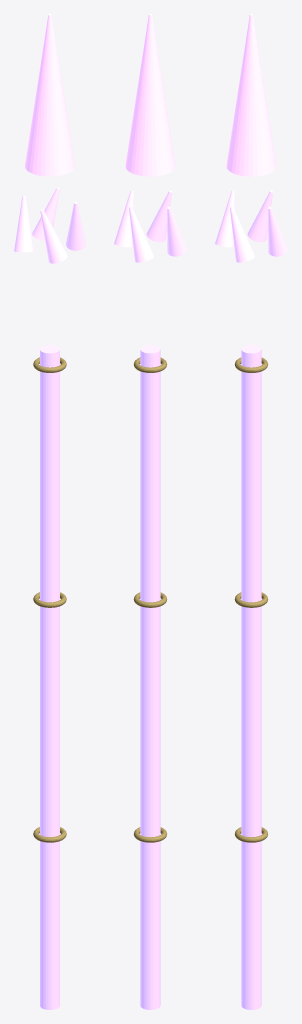
File: crystal_lance.glb
3 renders of one model, left to right at view 1: azimuth 90°, elevation 25°; view 2: azimuth 150°, elevation 25°; view 3: azimuth 330°, elevation 25°, orthographic.
Visible parts, largest first — view 1: Cylinder, Cone, Cone.002, Cone.003, Cone.004, Cone.001, Torus, Torus.001, Torus.002; view 2: Cylinder, Cone, Cone.002, Cone.004, Cone.003, Cone.001, Torus.002, Torus.001, Torus; view 3: Cylinder, Cone, Cone.004, Cone.002, Cone.001, Cone.003, Torus.002, Torus.001, Torus.
Boxes of the visible parts, box(x1,y1,x2,y2) form: Cylinder: box(40, 345, 59, 1009); Cone: box(25, 14, 74, 176); Cone.002: box(14, 195, 33, 252); Cone.003: box(40, 209, 67, 263); Cone.004: box(66, 201, 85, 250); Cone.001: box(32, 187, 59, 241); Torus: box(33, 827, 66, 842); Torus.001: box(33, 592, 66, 607); Torus.002: box(33, 357, 66, 372); Cylinder: box(140, 345, 160, 1009); Cone: box(125, 14, 175, 176); Cone.002: box(128, 206, 154, 262); Cone.004: box(146, 190, 171, 242); Cone.003: box(167, 207, 186, 256); Cone.001: box(114, 190, 133, 247); Torus.002: box(133, 357, 167, 372); Torus.001: box(133, 592, 167, 607); Torus: box(134, 827, 166, 842); Cylinder: box(241, 345, 261, 1009); Cone: box(226, 14, 276, 176); Cone.004: box(229, 206, 255, 262); Cone.002: box(247, 190, 272, 242); Cone.001: box(268, 207, 287, 256); Cone.003: box(215, 190, 234, 247); Torus.002: box(234, 357, 268, 372); Torus.001: box(234, 592, 268, 607); Torus: box(235, 827, 267, 842).
Bounding box in the file's own units: 0.0832 × 1.27 × 0.0832.
